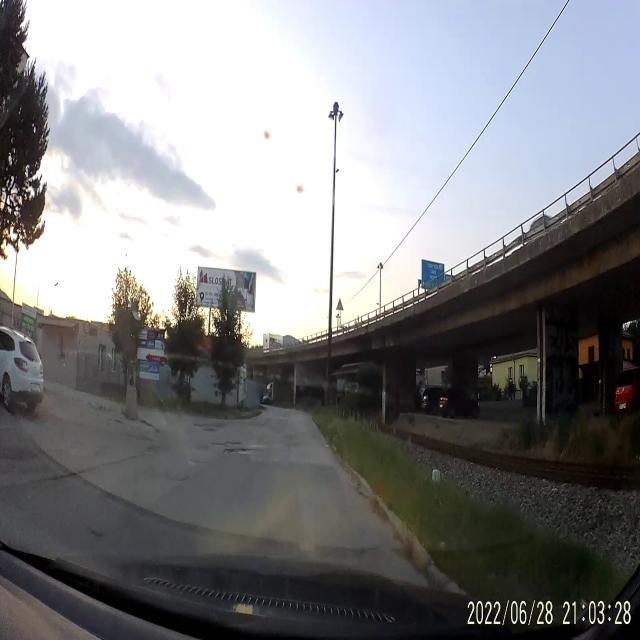Pothole: (193, 419, 226, 432), (226, 447, 254, 457), (210, 437, 238, 445)
